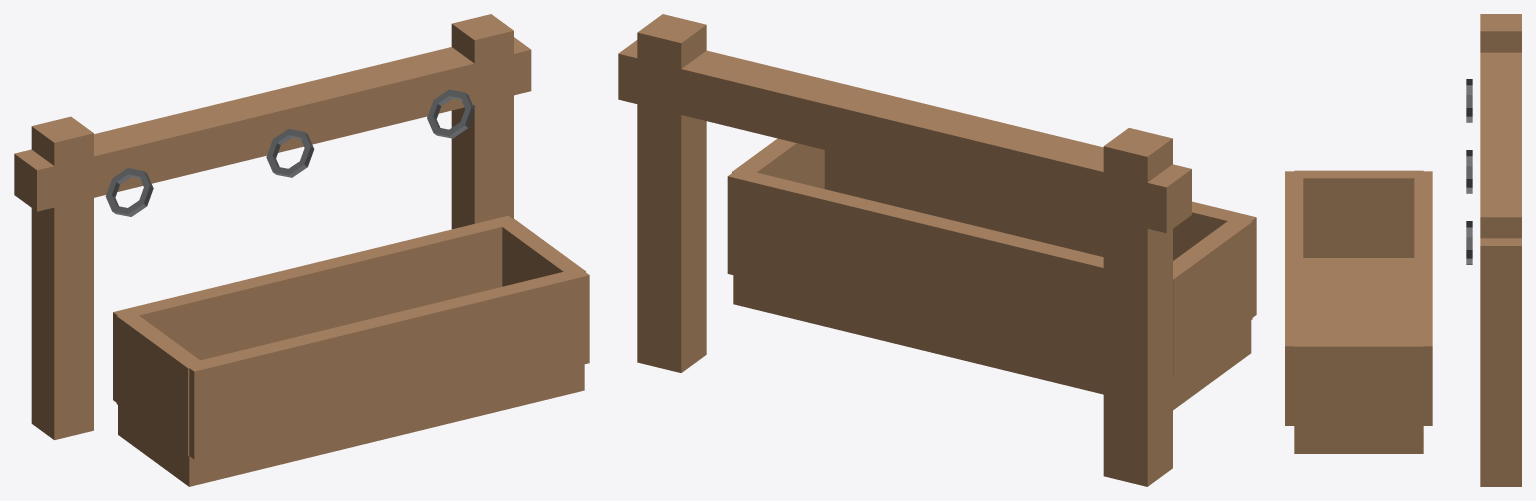
Rendered from frontier-hitching-post__137.glb.
3 renders of one model, left to right at view 1: azimuth 30°, elevation 25°; view 2: azimuth 150°, elevation 25°; view 3: azimuth 270°, elevation 25°, orthographic. The views are drawn at different scales.
Parts seen in each view (by area): view 1: frontier-post-hitching-post; view 2: frontier-post-hitching-post; view 3: frontier-post-hitching-post.
Part boxes in pixels (bbox=[...]): frontier-post-hitching-post: bbox=[14, 14, 589, 486]; frontier-post-hitching-post: bbox=[618, 14, 1256, 486]; frontier-post-hitching-post: bbox=[1285, 14, 1521, 486].
Size of the model in its own units: 2 by 1.15 by 0.915.
